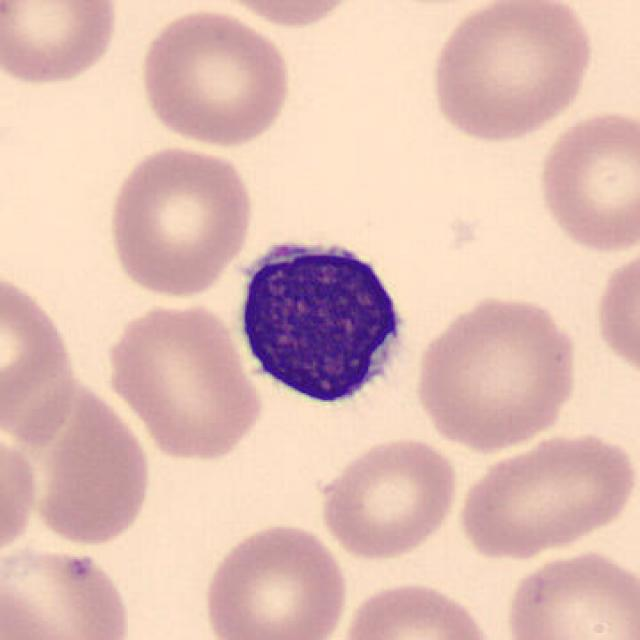Lymphocyte: (226, 220, 418, 414)
RBC: (101, 294, 265, 466), (411, 291, 583, 455), (103, 141, 258, 302), (425, 0, 597, 145), (454, 428, 636, 560), (135, 5, 295, 150), (27, 384, 156, 552), (315, 432, 462, 562), (199, 518, 352, 640), (532, 106, 638, 256), (0, 261, 80, 448), (0, 537, 135, 640), (502, 545, 638, 640), (0, 0, 123, 90), (336, 578, 500, 640), (592, 240, 638, 388), (0, 423, 43, 566), (205, 0, 362, 32)
